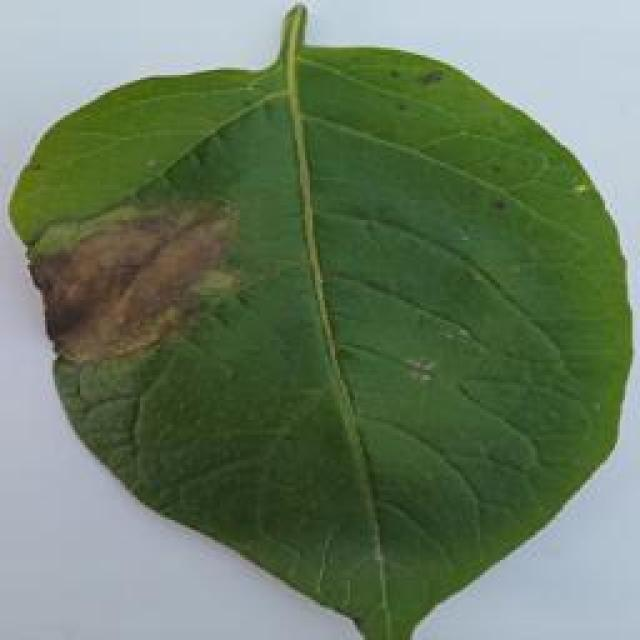Potato_Late_Blight: (9, 5, 618, 636)
